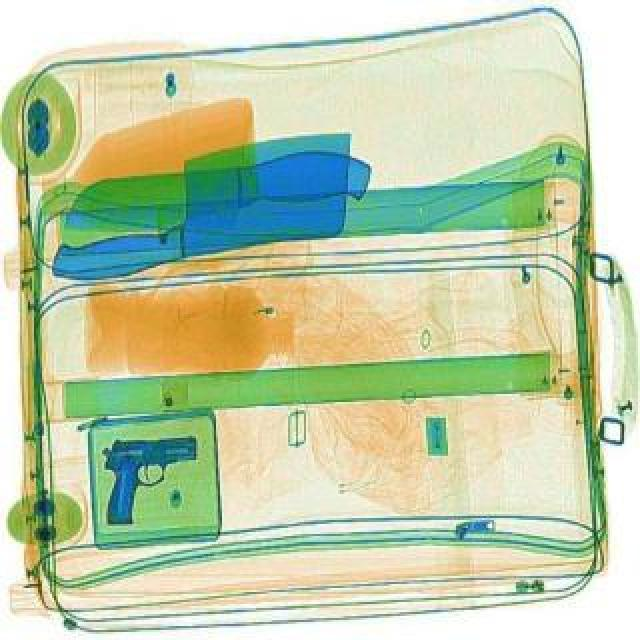gun: (96, 430, 208, 526)
knife: (28, 114, 376, 300), (56, 144, 380, 248)
